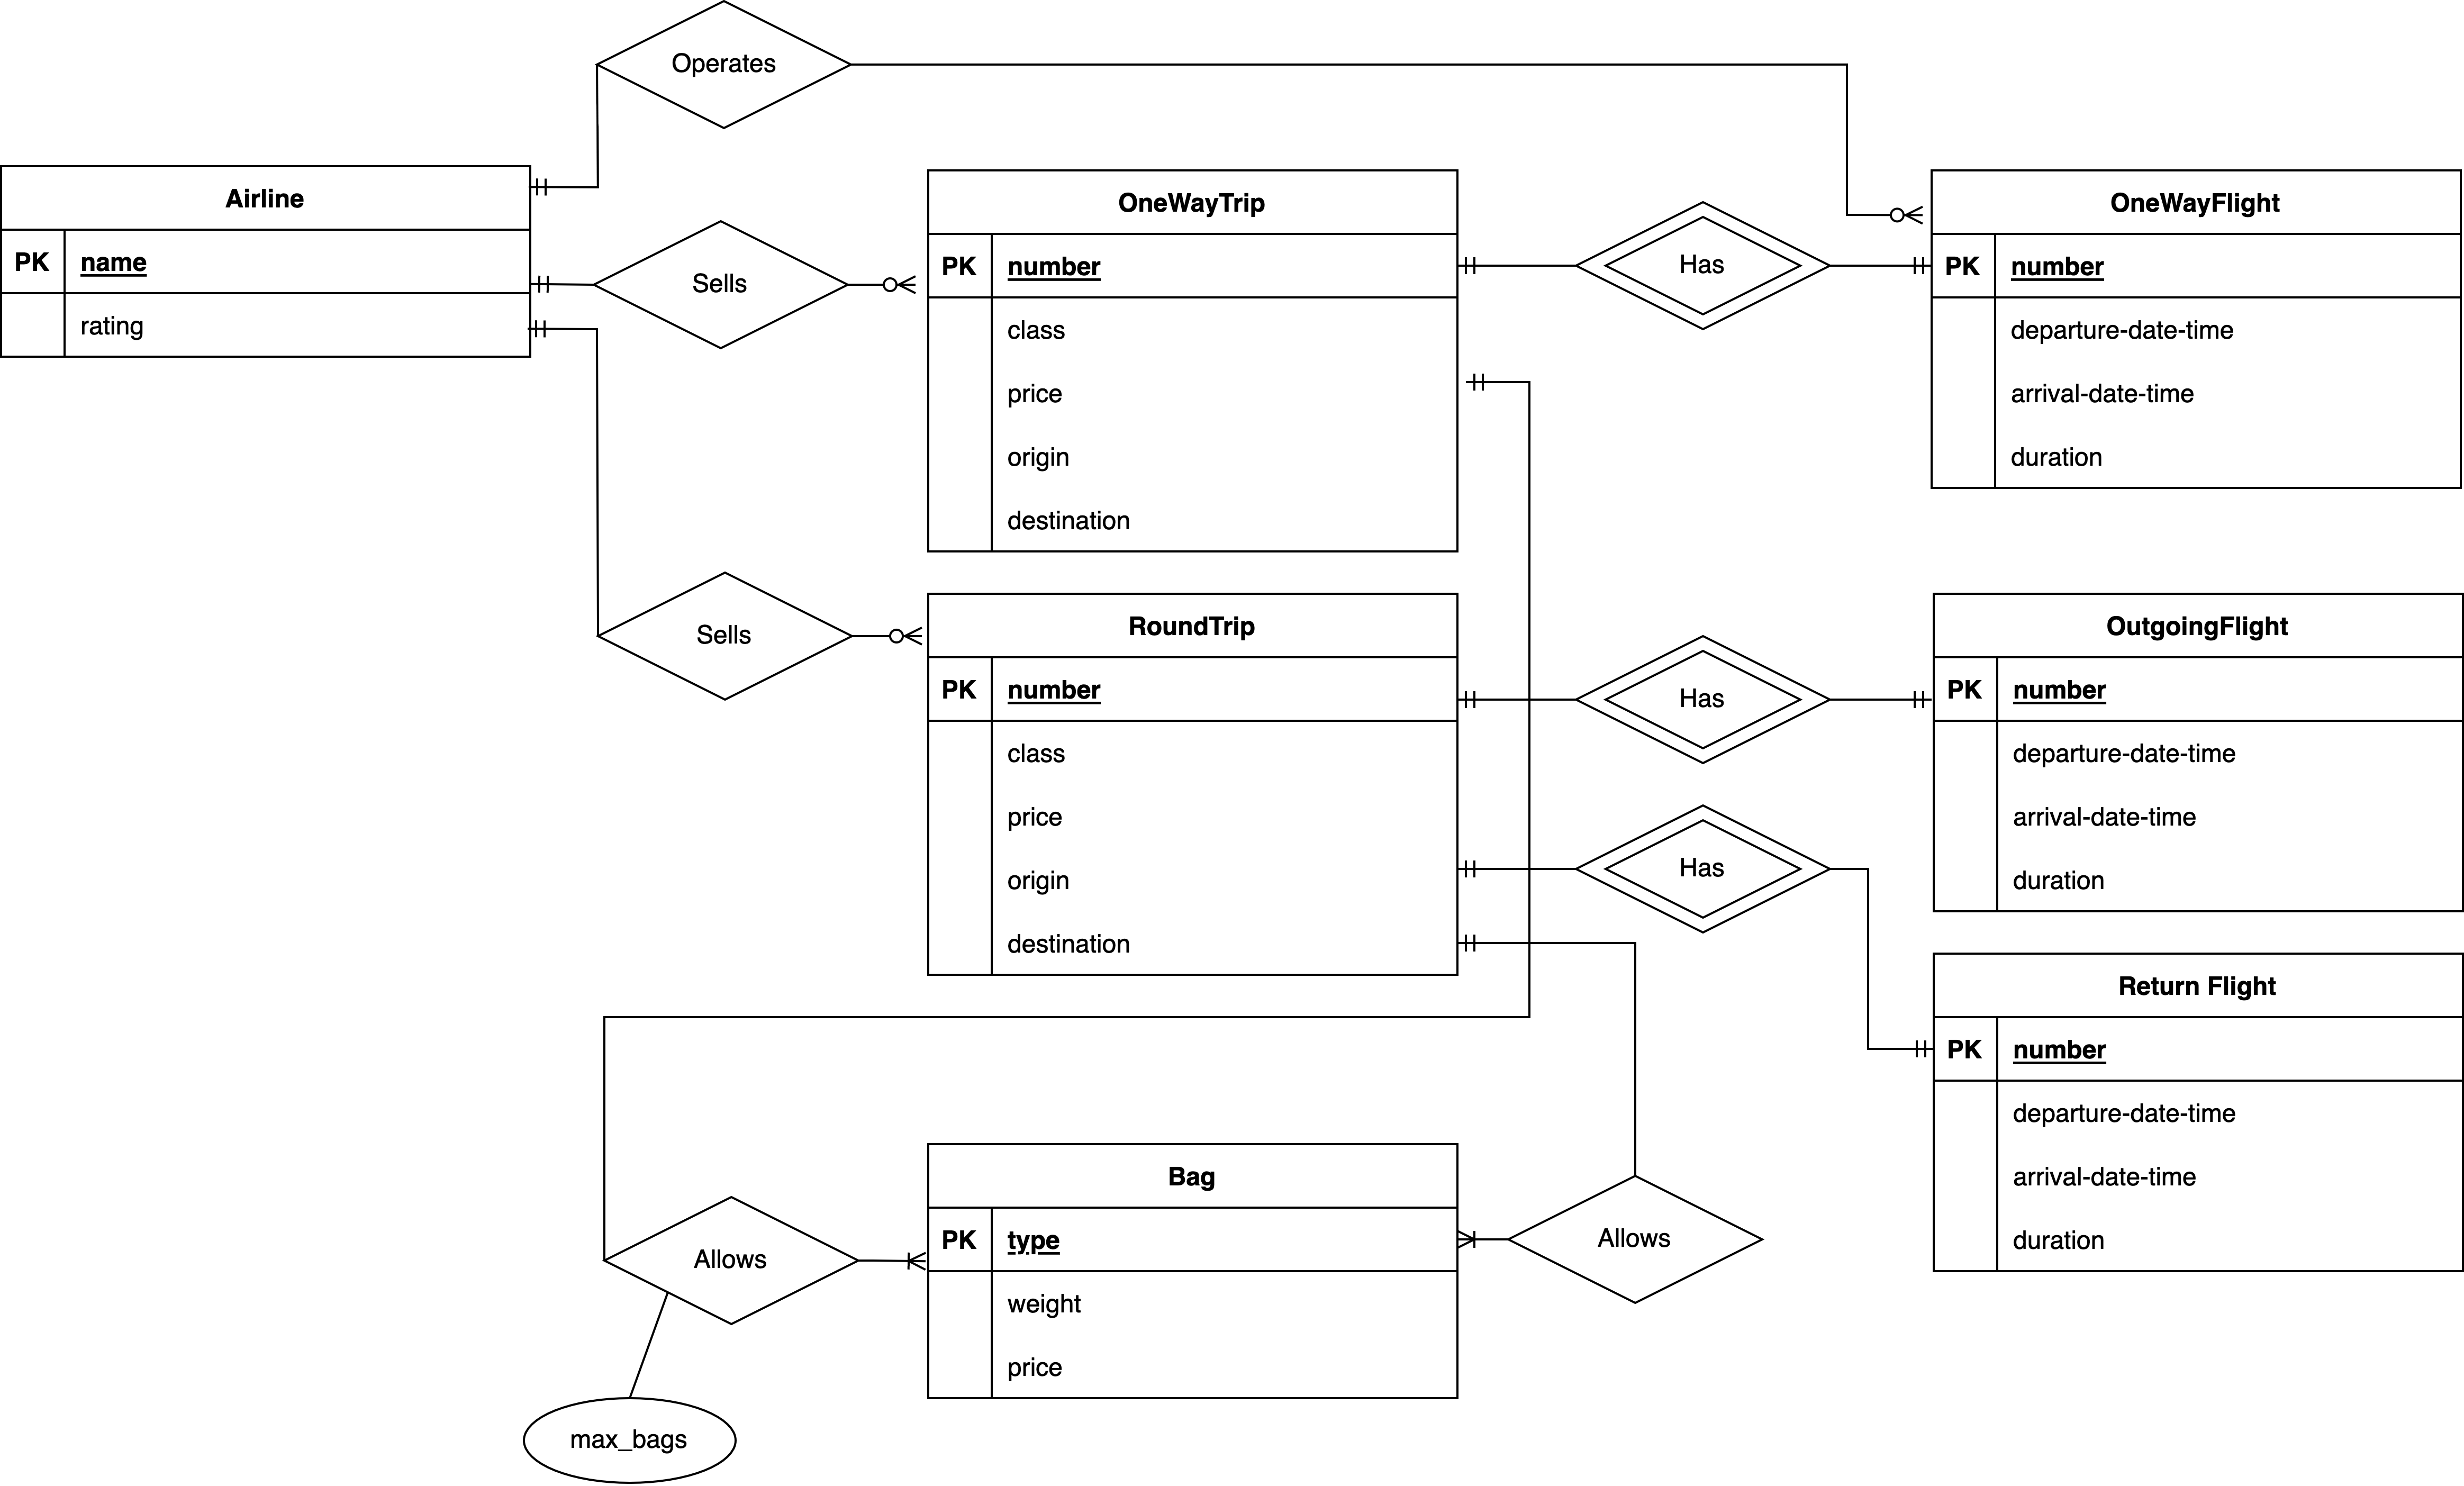entity: (929, 173, 1456, 555), (1936, 951, 2464, 1278), (1936, 169, 2464, 493), (1934, 595, 2462, 914), (931, 1150, 1456, 1407), (4, 166, 535, 356)
ident_rel: (1579, 634, 1829, 766), (1575, 808, 1830, 935), (1584, 208, 1832, 335)
many: (1852, 204, 1934, 234), (855, 1248, 926, 1278), (848, 273, 926, 296), (852, 627, 926, 650), (1456, 1229, 1508, 1255)
one: (1459, 690, 1577, 713), (1461, 861, 1577, 882), (1461, 935, 1579, 954), (1830, 255, 1927, 278), (1456, 259, 1577, 276), (1829, 692, 1931, 711), (532, 319, 597, 342), (1864, 1037, 1934, 1058), (530, 176, 598, 197), (1457, 372, 1531, 391), (530, 276, 593, 294)
rel: (607, 1195, 859, 1328), (602, 576, 859, 701), (600, 0, 848, 127), (1507, 1178, 1760, 1301), (597, 222, 847, 343)
rel_attr: (526, 1400, 737, 1486)
